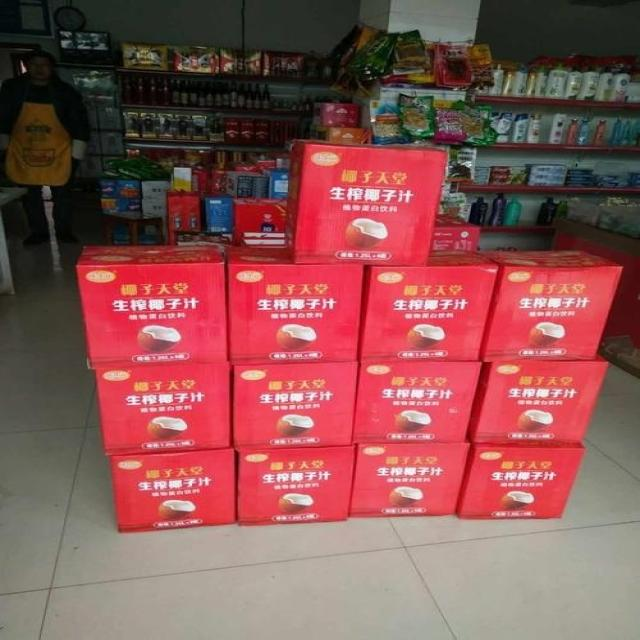box: (284, 140, 446, 267), (77, 245, 229, 369), (226, 246, 367, 364), (475, 249, 622, 362), (361, 249, 499, 362), (466, 352, 610, 442), (96, 365, 231, 455), (233, 363, 359, 449), (109, 448, 236, 533), (453, 441, 587, 519), (355, 362, 482, 443), (236, 446, 356, 525), (350, 442, 472, 517)
